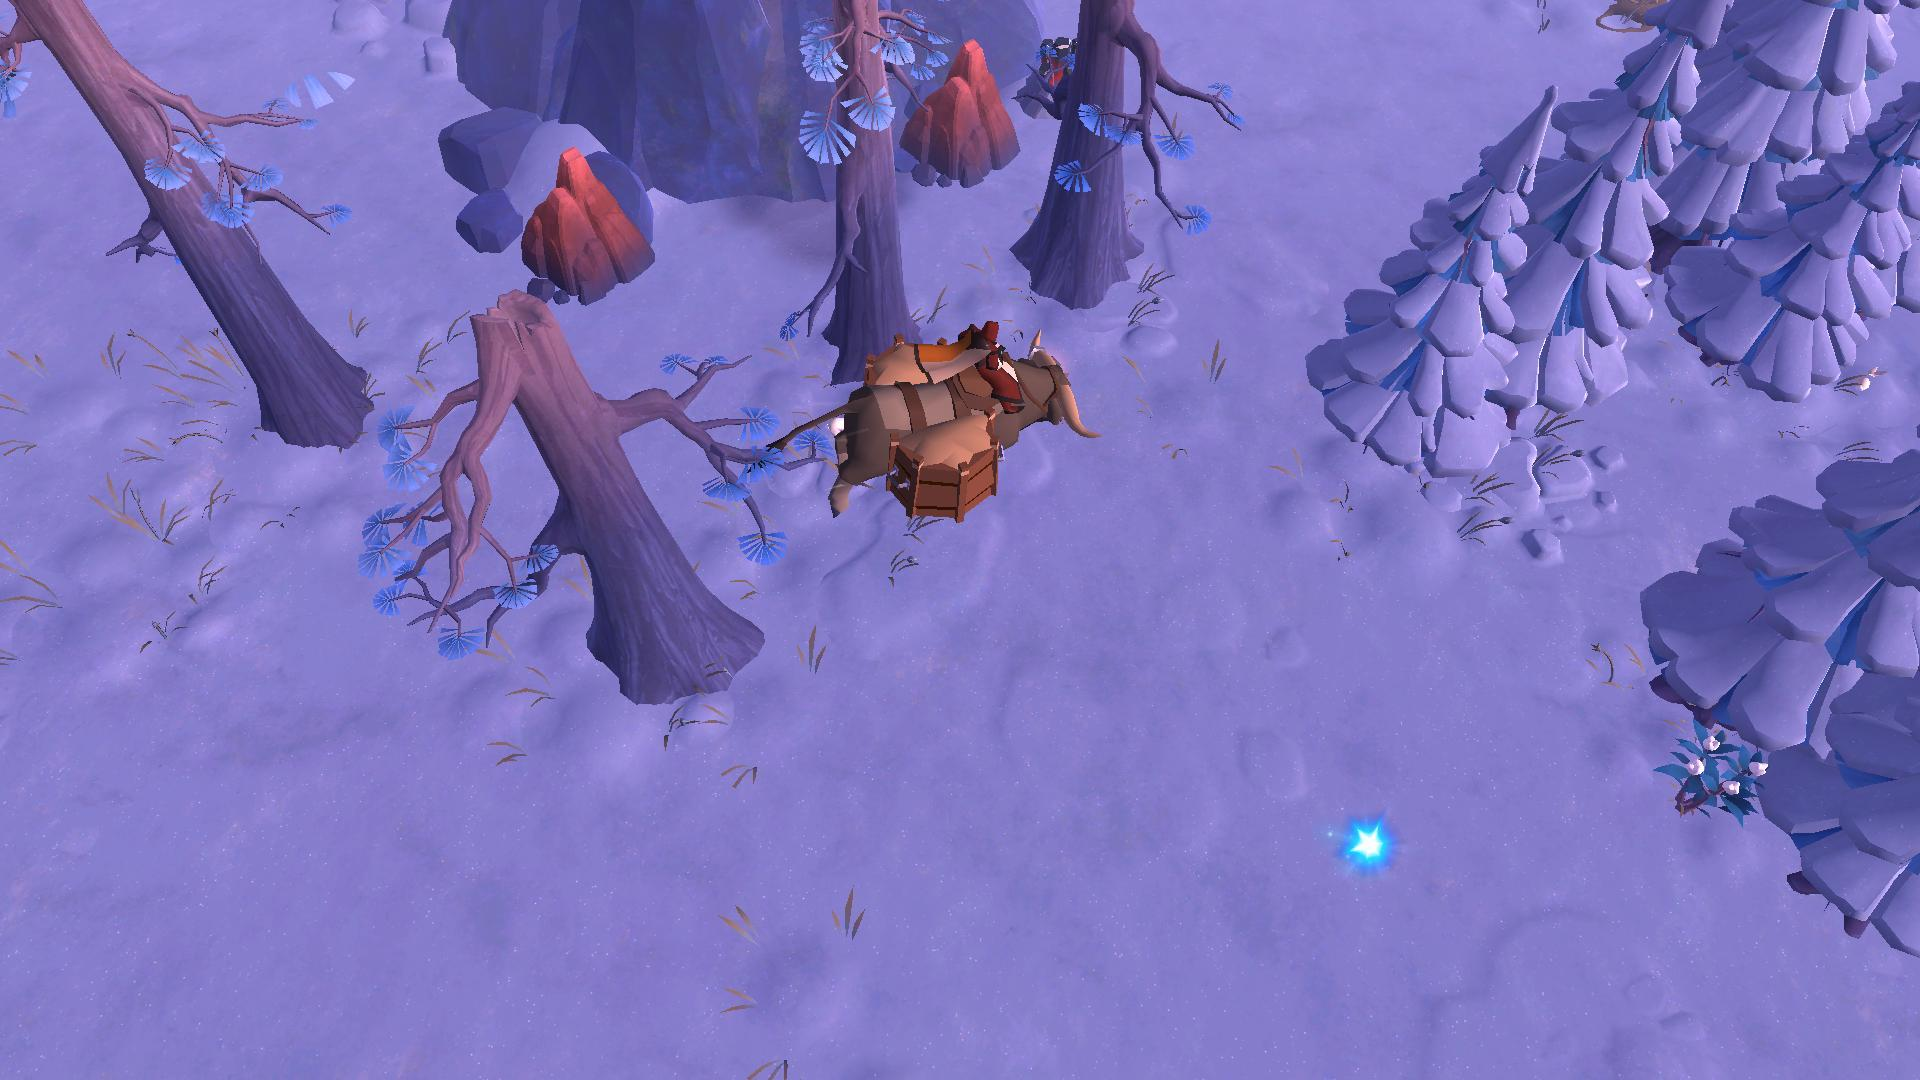fiber_t4: (1664, 723, 1768, 829)
ore_t5: (1038, 29, 1092, 108)
rock_t5: (510, 148, 662, 293), (905, 38, 1022, 190)
